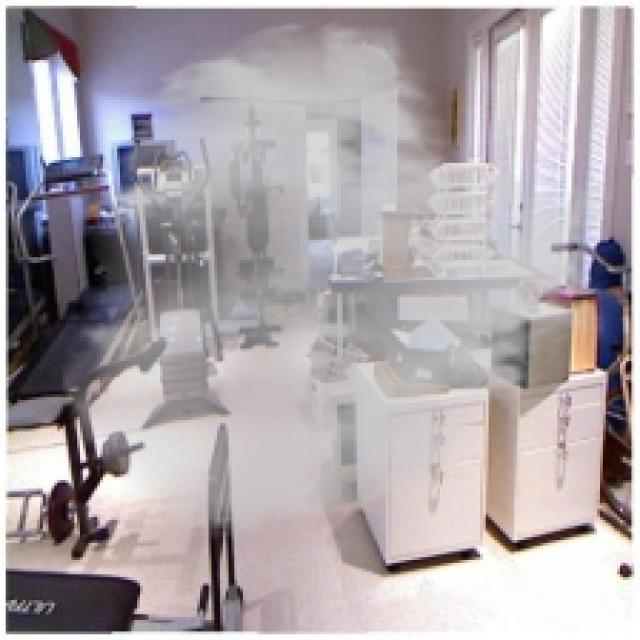smoke: (57, 17, 617, 543)
